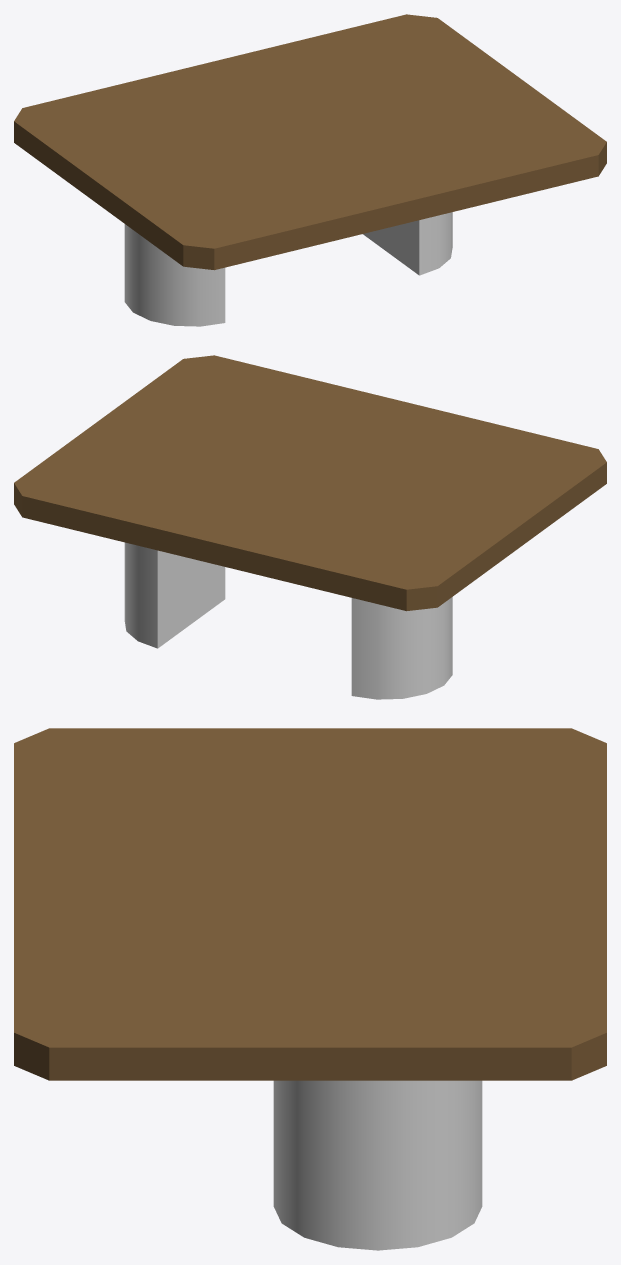
The model's file is Table.fbx.
3 views of the same model, one above another, from view 1: azimuth 30°, elevation 25°; view 2: azimuth 150°, elevation 25°; view 3: azimuth 270°, elevation 25° (orthographic). The views are drawn at different scales.
Visible parts, largest first — view 1: Table.002, Cube.039, Cube.055, Cylinder.019, Cylinder.018; view 2: Table.002, Cylinder.019, Cylinder.018, Cube.055, Cube.039; view 3: Table.002, Cylinder.018, Cube.039, Cube.055.
Part boxes in pixels (x1,y1,x2,y2): Table.002: (14,14,606,270); Cube.039: (157,66,337,167); Cube.055: (222,51,402,151); Cylinder.019: (124,224,225,326); Cylinder.018: (363,212,452,275); Table.002: (14,355,606,611); Cylinder.019: (351,597,452,699); Cylinder.018: (124,542,225,648); Cube.055: (157,436,337,537); Cube.039: (222,452,402,553); Table.002: (14,728,606,1080); Cylinder.018: (273,1080,482,1250); Cube.039: (224,839,584,887); Cube.055: (224,888,584,936).
Size of the model in its own units: 1212 by 435 by 952.
